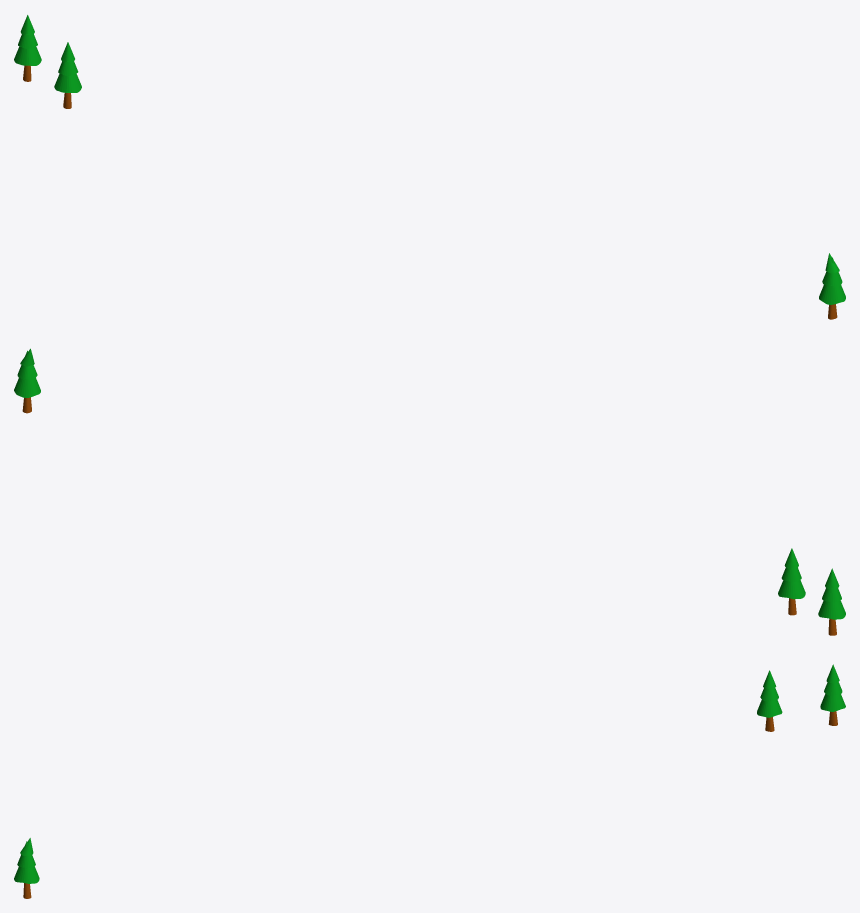
File: pohon pinus .glb
3 views of the same model, one above another, from view 1: azimuth 30°, elevation 25°; view 2: azimuth 210°, elevation 25°; view 3: azimuth 270°, elevation 25° (orthographic). The views are drawn at different scales.
Visible parts, largest first — view 1: Cone.054, Cone.051, Cone.052; view 2: Cone.051, Cone.052, Cone.054; view 3: Cone.051, Cone.052, Cone.054.
Part boxes in pixels (x1,y1,x2,y2): Cone.054: (819, 253, 845, 319); Cone.051: (54, 42, 81, 108); Cone.052: (14, 15, 41, 81); Cone.051: (778, 548, 805, 615); Cone.052: (818, 568, 845, 635); Cone.054: (14, 348, 40, 413); Cone.051: (757, 670, 782, 731); Cone.052: (820, 664, 845, 725); Cone.054: (14, 838, 39, 898).
Size of the model in its own units: 0.6334 by 0.1131 by 1.26.
